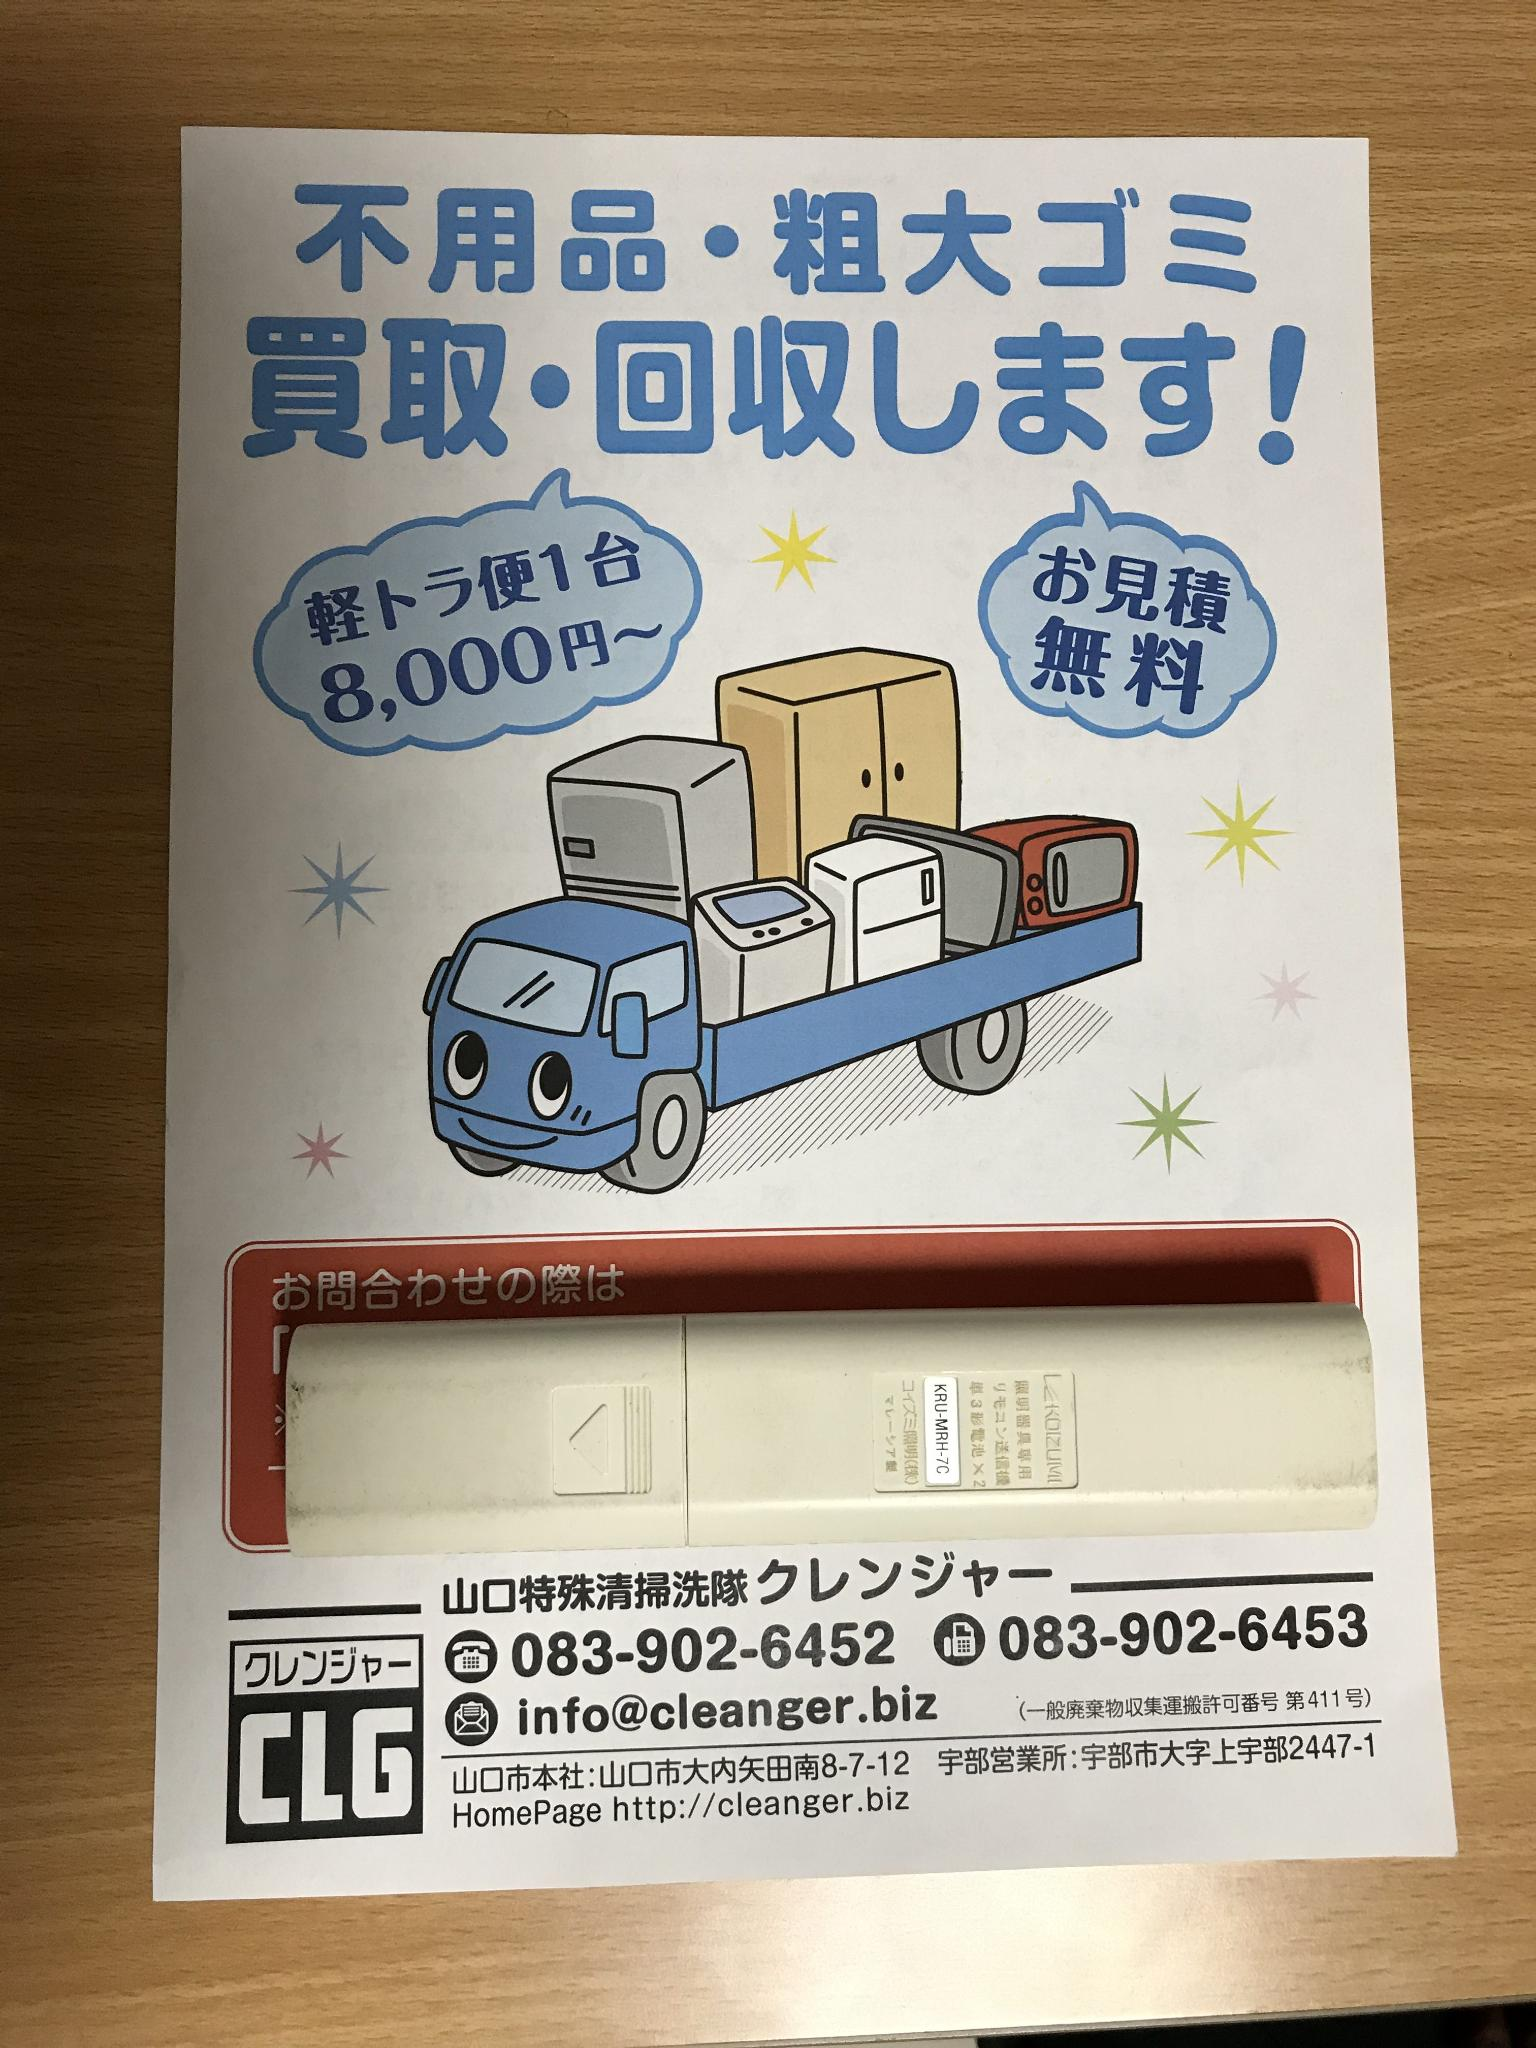cardboard: (161, 131, 1450, 1893), (160, 1222, 1454, 1895)
